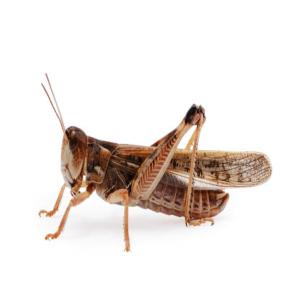locust: (31, 107, 283, 239)
